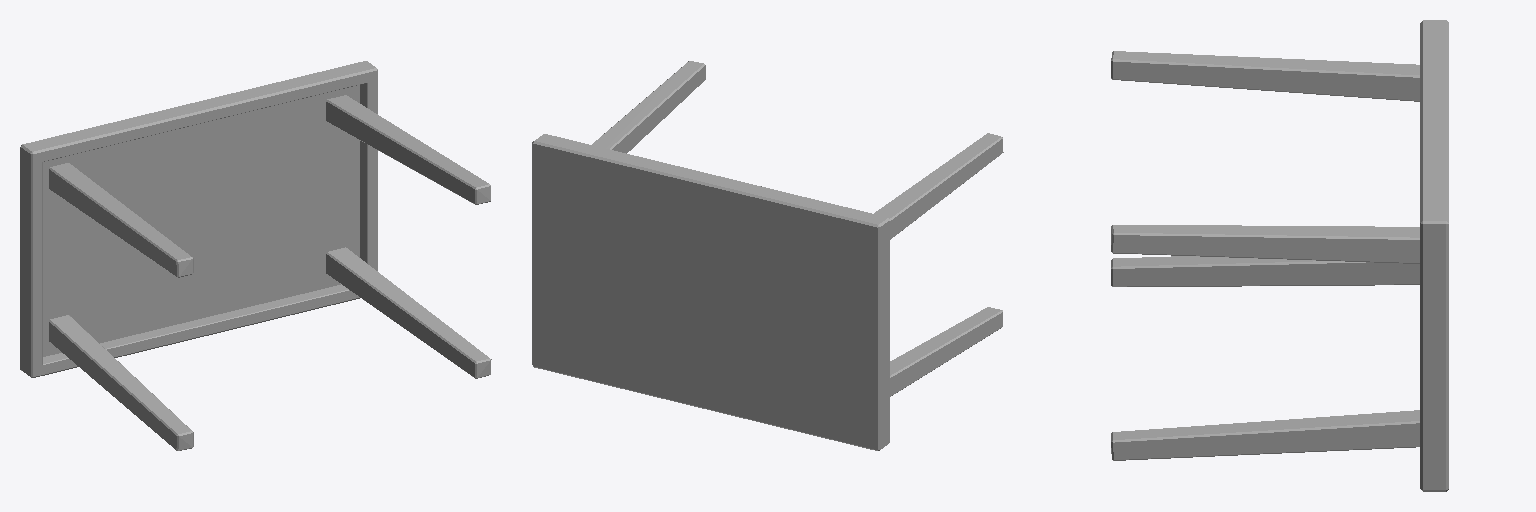
URDF robot description (wooden_table):
<robot name="wooden_table">
  <link name="table">
    <contact>
      <lateral_friction value="0.5"/>
      <rolling_friction value="0.0"/>
      <contact_cfm value="0.0"/>
      <contact_erp value="1.0"/>
    </contact>
    <inertial>
      <origin rpy="0 0 0" xyz="0 0 0"/>
      <mass value="0"/>
      <inertia ixx="0" ixy="0" ixz="0" iyy="0" iyz="0" izz="0"/>
    </inertial>
    <visual>
      <origin rpy="0 0 0" xyz="0 0 0"/>
      <geometry>
        <mesh filename="wooden_table.obj" scale="1 1 1"/>
      </geometry>
      <material name="tray_material">
        <color rgba="0.7 0.7 0.7 1"/>
      </material>
    </visual>
    <collision>
      <origin rpy="0 0 0" xyz="0 0 0"/>
      <geometry>
        <mesh filename="wooden_table.obj" scale="1 1 1"/>
      </geometry>
    </collision>
  </link>
</robot>

--- Facts derived from the render (not from the file) ---
The picture shows the robot from 3 angles, left to right: view 1: azimuth 30°, elevation 25°; view 2: azimuth 150°, elevation 25°; view 3: azimuth 270°, elevation 25°; orthographic projection.
Robot: wooden_table — 1 links, 0 joints (none); root link table; default pose: every joint at zero.
Visible links, largest first — view 1: table; view 2: table; view 3: table.
Boxes of the visible links, x1,y1,x2,y2 form: table: (20,61,491,450); table: (532,61,1003,450); table: (1111,20,1448,491).
Size in the robot's own frame: 1.13 by 0.7995 by 0.706 metres.
1 mesh visuals loaded from 1 distinct referenced files (1 OBJ).